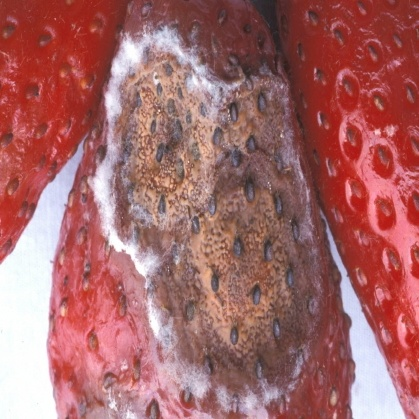Anthracnose_FR: (72, 0, 347, 418)
